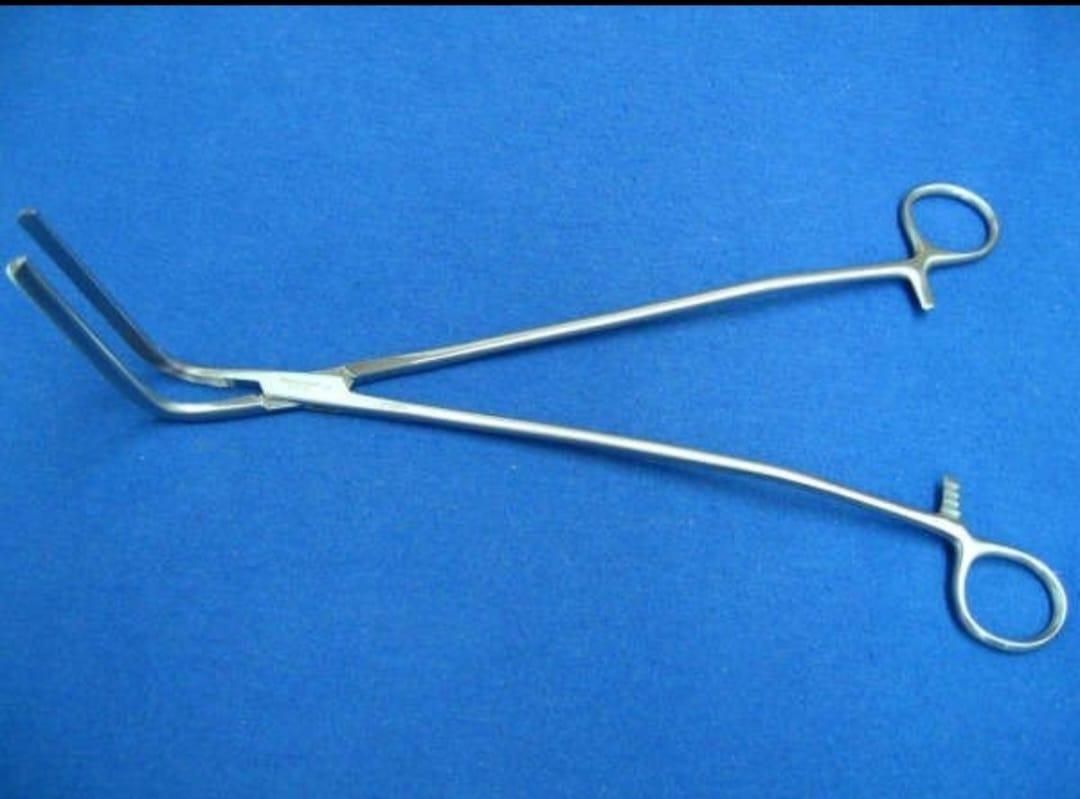Surgical blade: (3, 181, 1070, 661)
